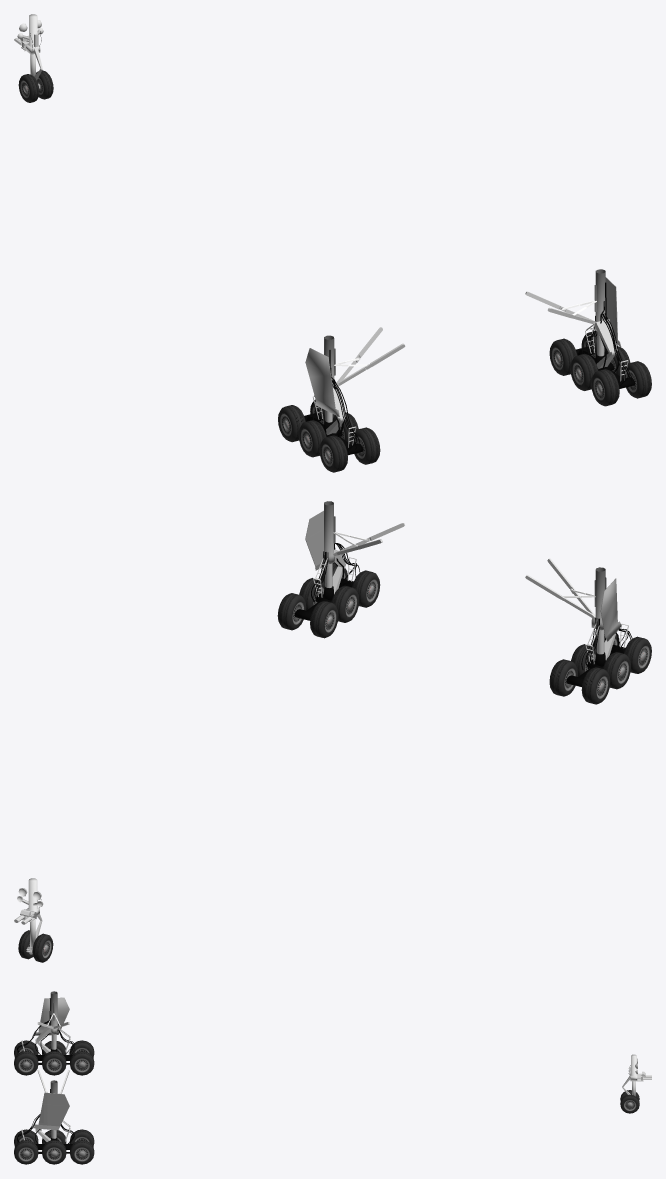
The picture shows the model from 3 angles, top to bottom: view 1: azimuth 30°, elevation 25°; view 2: azimuth 150°, elevation 25°; view 3: azimuth 270°, elevation 25°; orthographic projection. The views are drawn at different scales.
Parts seen in each view (by area): view 1: Lgear, RHwheel.3, LHwheel.3, Rgear, RHwheel.2, LHwheel.2, RHwheel.1, LHwheel.1, FrtWheel, Rgear.tubing, FrtGear; view 2: LHwheel.1, RHwheel.1, Rgear, Lgear, RHwheel.2, LHwheel.2, RHwheel.3, LHwheel.3, FrtWheel, FrtGear; view 3: Rgear, Lgear, LHwheel.1, RHwheel.1, LHwheel.3, RHwheel.3, LHwheel.2, RHwheel.2, FrtWheel, FrtGear, Lgear.tubing.
Boxes of the visible parts, x1,y1,x2,y2 form: Lgear: (305,335,339,416); RHwheel.3: (591,361,651,406); LHwheel.3: (319,427,380,472); Rgear: (594,269,621,347); RHwheel.2: (570,346,630,390); LHwheel.2: (298,412,358,457); RHwheel.1: (549,331,606,375); LHwheel.1: (278,400,334,442); FrtWheel: (18,70,53,102); Rgear.tubing: (581,282,635,386); FrtGear: (14,14,43,54); LHwheel.1: (549,659,610,704); RHwheel.1: (277,593,338,638); Rgear: (305,501,335,570); Lgear: (591,567,621,641); RHwheel.2: (299,578,359,622); LHwheel.2: (571,644,630,689); RHwheel.3: (320,562,380,607); LHwheel.3: (592,634,651,673); FrtWheel: (18,930,53,962); FrtGear: (14,878,43,924); Rgear: (33,1080,69,1130); Lgear: (33,991,69,1035); LHwheel.1: (70,1040,94,1075); RHwheel.1: (70,1129,94,1164); LHwheel.3: (14,1040,38,1075); RHwheel.3: (14,1129,38,1164); LHwheel.2: (42,1041,66,1075); RHwheel.2: (42,1130,66,1164); FrtWheel: (620,1090,639,1113); FrtGear: (629,1054,651,1081); Lgear.tubing: (17,998,74,1057).
Size of the model in its own units: 13.1 by 4.49 by 34.04.
7 materials, 2 textured.
